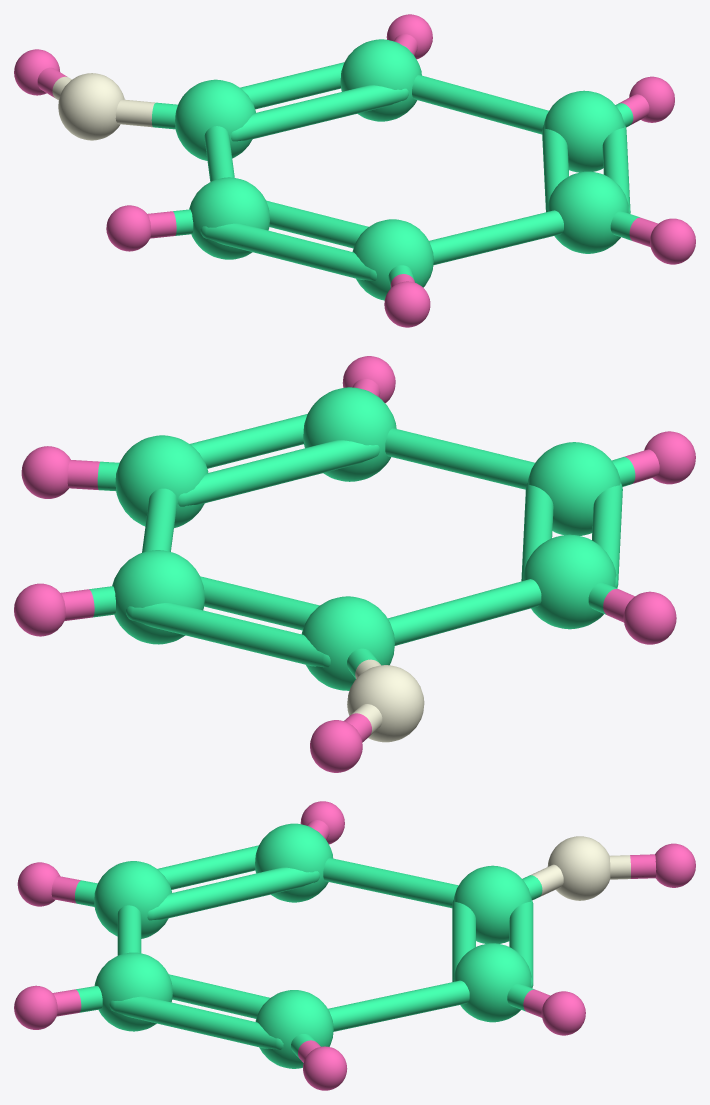
File: fenoles.gltf
The picture shows the model from 3 angles, top to bottom: view 1: azimuth 30°, elevation 25°; view 2: azimuth 150°, elevation 25°; view 3: azimuth 270°, elevation 25°; orthographic projection. The views are drawn at different scales.
Visible parts, largest first — view 1: Sphere.040, Sphere.033, Sphere.036, Cylinder.059, Sphere.039, Cylinder.067, Sphere.038, Sphere.032, Cylinder.054, Sphere.031, Cylinder.073, Cylinder.057 (+16 smaller); view 2: Sphere.038, Sphere.033, Sphere.036, Sphere.039, Cylinder.057, Sphere.032, Cylinder.064, Sphere.040, Cylinder.074, Cylinder.073, Sphere.031, Cylinder.059 (+15 smaller); view 3: Sphere.032, Cylinder.060, Sphere.039, Sphere.033, Cylinder.069, Sphere.036, Sphere.040, Sphere.038, Cylinder.054, Cylinder.074, Sphere.031, Cylinder.064 (+18 smaller).
Part boxes in pixels (<box>): Sphere.040: <box>547,171,628,253</box>; Sphere.033: <box>175,79,255,160</box>; Sphere.036: <box>543,90,624,172</box>; Cylinder.059: <box>231,85,408,141</box>; Sphere.039: <box>352,219,433,300</box>; Cylinder.067: <box>200,223,376,280</box>; Sphere.038: <box>189,177,269,259</box>; Sphere.032: <box>340,39,421,121</box>; Cylinder.054: <box>412,75,548,134</box>; Sphere.031: <box>58,73,124,140</box>; Cylinder.073: <box>429,210,563,265</box>; Cylinder.057: <box>240,62,344,109</box>; Sphere.038: <box>523,534,616,629</box>; Sphere.033: <box>301,596,394,690</box>; Sphere.036: <box>115,435,208,527</box>; Sphere.039: <box>527,442,620,535</box>; Cylinder.057: <box>125,603,330,667</box>; Sphere.032: <box>112,550,204,644</box>; Cylinder.064: <box>178,440,379,506</box>; Sphere.040: <box>303,387,396,481</box>; Cylinder.074: <box>388,579,541,645</box>; Cylinder.073: <box>385,428,534,489</box>; Sphere.031: <box>347,665,424,742</box>; Cylinder.059: <box>200,576,319,630</box>; Sphere.032: <box>453,943,531,1022</box>; Cylinder.060: <box>109,996,283,1049</box>; Sphere.039: <box>94,861,171,938</box>; Sphere.033: <box>454,865,531,943</box>; Cylinder.069: <box>147,867,319,920</box>; Sphere.036: <box>255,990,333,1068</box>; Sphere.040: <box>94,952,172,1031</box>; Sphere.038: <box>255,823,333,902</box>; Cylinder.054: <box>328,980,469,1031</box>; Cylinder.074: <box>323,858,458,908</box>; Sphere.031: <box>547,836,610,900</box>; Cylinder.064: <box>169,974,269,1018</box>.
Size of the model in its own units: 0.00188 by 0.000238 by 0.00205.
